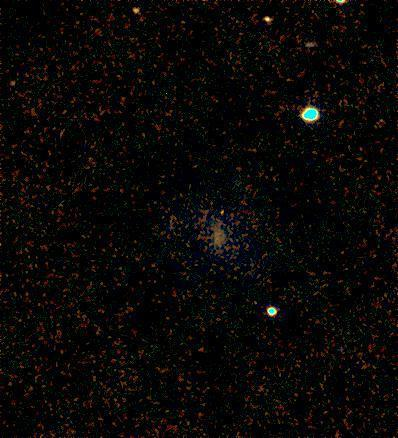star: (204, 199, 234, 229)
